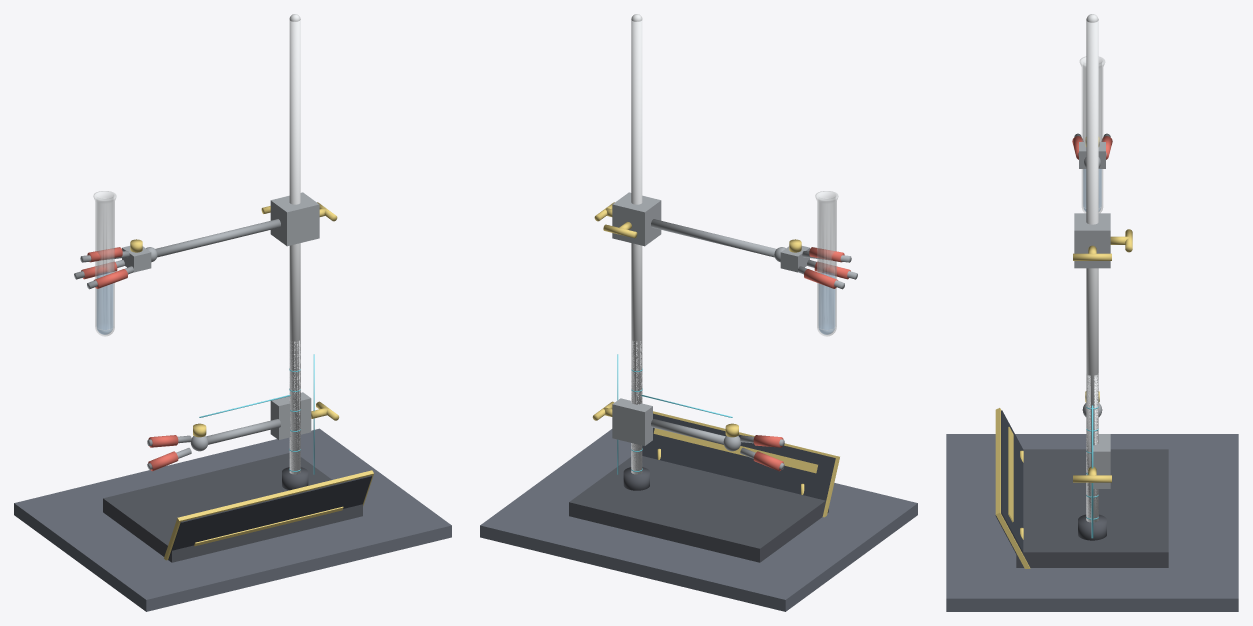
The model's file is retort-stand.glb.
3 views of the same model, side by side, from view 1: azimuth 30°, elevation 25°; view 2: azimuth 150°, elevation 25°; view 3: azimuth 270°, elevation 25° (orthographic). The views are drawn at different scales.
Visible parts, largest first — view 1: retort-stand_Plinth, Sec_Plinth, retort-stand_Base_Plate, Sec_Plaque_Board, retort-stand_Support_Rod, retort-stand_Test_Tube, retort-stand_Bosshead_Body, Sec_Plaque_Frame, Sec_Bosshead_Cutaway, retort-stand_Clamp_Shaft, retort-stand_Liquid, Sec_Shaft (+2 smaller); view 2: retort-stand_Plinth, retort-stand_Base_Plate, Sec_Plinth, Sec_Plaque_Board, retort-stand_Support_Rod, retort-stand_Test_Tube, retort-stand_Bosshead_Body, Sec_Bosshead_Cutaway, retort-stand_Clamp_Shaft, Sec_Plaque_Title, retort-stand_Liquid, Sec_Plaque_Frame (+1 smaller); view 3: retort-stand_Plinth, Sec_Plinth, retort-stand_Base_Plate, retort-stand_Support_Rod, Sec_Plaque_Board, retort-stand_Bosshead_Body, retort-stand_Test_Tube, Sec_Rod_Section, Sec_Plaque_Frame, Sec_Bosshead_Cutaway, retort-stand_Rod_Boss, Sec_Plaque_Title.
Part boxes in pixels (x1,y1,x2,y2): retort-stand_Plinth: [14, 428, 451, 611]; Sec_Plinth: [39, 437, 347, 591]; retort-stand_Base_Plate: [103, 453, 362, 562]; Sec_Plaque_Board: [168, 475, 372, 559]; retort-stand_Support_Rod: [289, 20, 300, 474]; retort-stand_Test_Tube: [93, 191, 116, 336]; retort-stand_Bosshead_Body: [270, 192, 319, 246]; Sec_Plaque_Frame: [164, 470, 373, 560]; Sec_Bosshead_Cutaway: [270, 392, 311, 439]; retort-stand_Clamp_Shaft: [155, 219, 280, 257]; retort-stand_Liquid: [97, 272, 112, 334]; Sec_Shaft: [206, 419, 280, 444]; retort-stand_Plinth: [480, 429, 917, 611]; retort-stand_Base_Plate: [569, 456, 828, 562]; Sec_Plinth: [590, 440, 892, 591]; Sec_Plaque_Board: [642, 413, 835, 500]; retort-stand_Support_Rod: [631, 20, 642, 474]; retort-stand_Test_Tube: [815, 191, 838, 336]; retort-stand_Bosshead_Body: [612, 192, 661, 246]; Sec_Bosshead_Cutaway: [612, 398, 652, 445]; retort-stand_Clamp_Shaft: [651, 219, 776, 257]; Sec_Plaque_Title: [653, 428, 817, 473]; retort-stand_Liquid: [819, 272, 834, 334]; Sec_Plaque_Frame: [653, 411, 839, 517]; retort-stand_Plinth: [946, 434, 1238, 611]; Sec_Plinth: [958, 444, 1226, 588]; retort-stand_Base_Plate: [1016, 449, 1168, 567]; retort-stand_Support_Rod: [1086, 20, 1098, 522]; Sec_Plaque_Board: [995, 410, 1023, 553]; retort-stand_Bosshead_Body: [1074, 213, 1110, 268]; retort-stand_Test_Tube: [1079, 56, 1105, 213]; Sec_Rod_Section: [1086, 374, 1098, 522]; Sec_Plaque_Frame: [995, 408, 1030, 568]; Sec_Bosshead_Cutaway: [1093, 434, 1110, 488]; retort-stand_Rod_Boss: [1078, 514, 1106, 540]; Sec_Plaque_Title: [1008, 427, 1013, 522].
Size of the model in its own units: 0.32 by 0.497 by 0.24.
